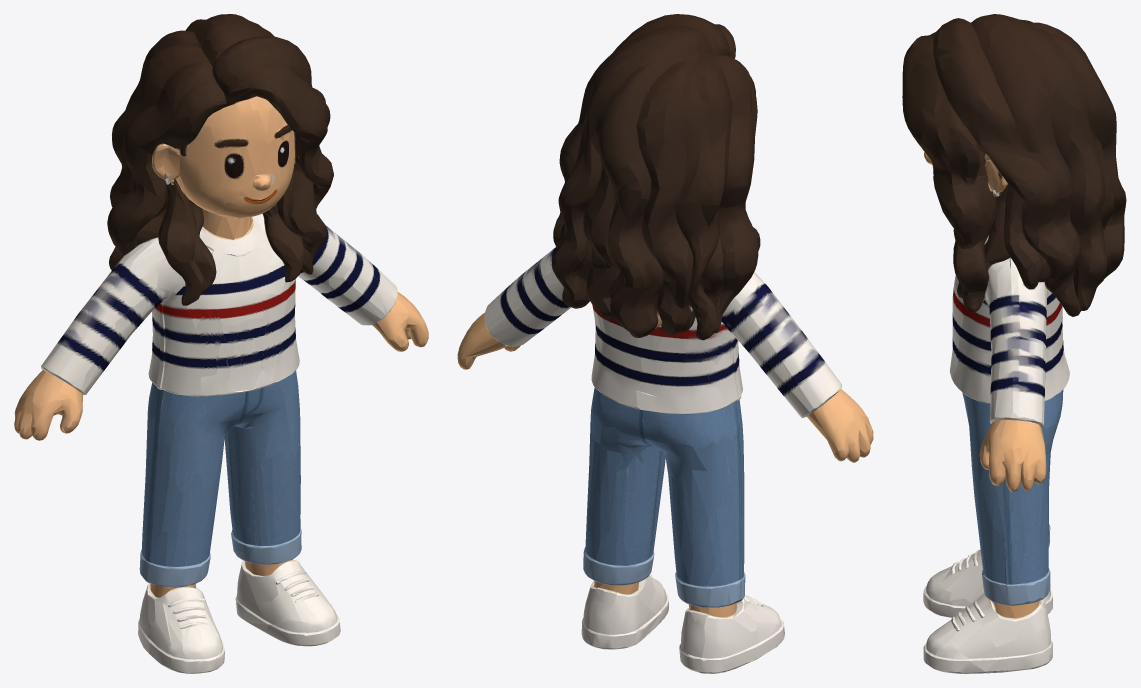
3 renders of one model, left to right at view 1: azimuth 30°, elevation 25°; view 2: azimuth 150°, elevation 25°; view 3: azimuth 270°, elevation 25°, orthographic.
Size of the model in its own units: 1.32 by 1.9 by 0.6265.
1 material, 1 textured.
